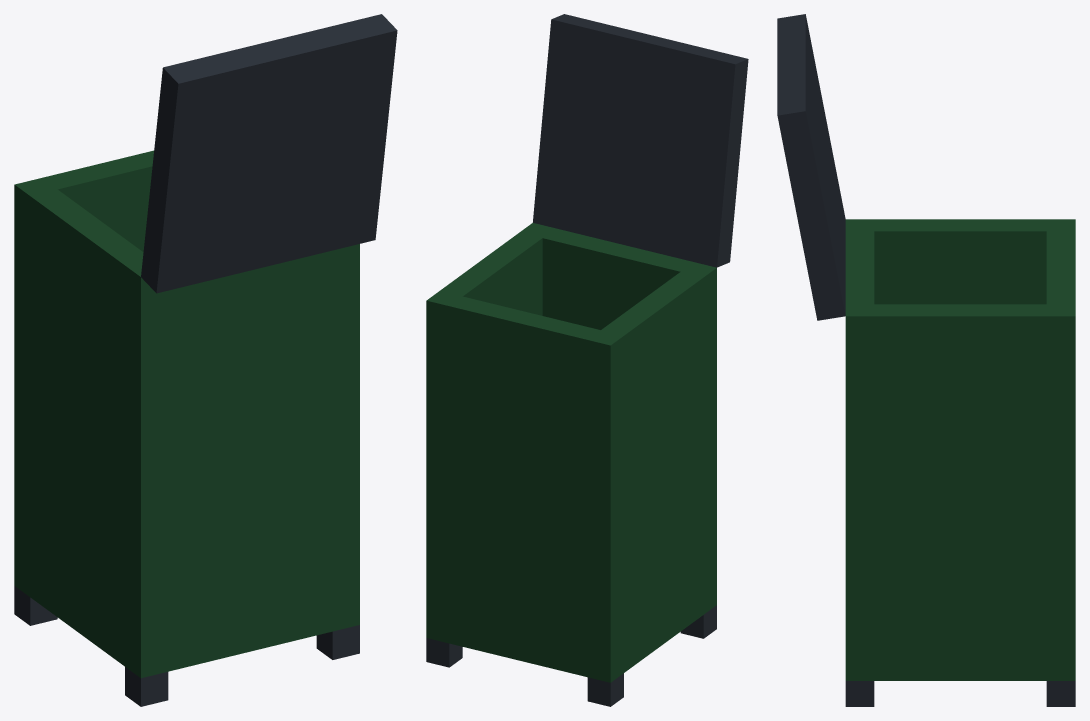
File: greytrashopen.gltf
The picture shows the model from 3 angles, left to right: view 1: azimuth 30°, elevation 25°; view 2: azimuth 150°, elevation 25°; view 3: azimuth 270°, elevation 25°; orthographic projection. The views are drawn at different scales.
Visible parts, largest first — view 1: mesh (×9); view 2: mesh (×9); view 3: mesh (×8).
Part boxes in pixels (<box>): mesh (×9): <box>14,14,397,706</box>; mesh (×9): <box>426,14,748,706</box>; mesh (×8): <box>777,14,1075,706</box>.
Bounding box in the file's own units: 1 × 2.86 × 1.3.
Materials: 1 (1 with a texture image).
